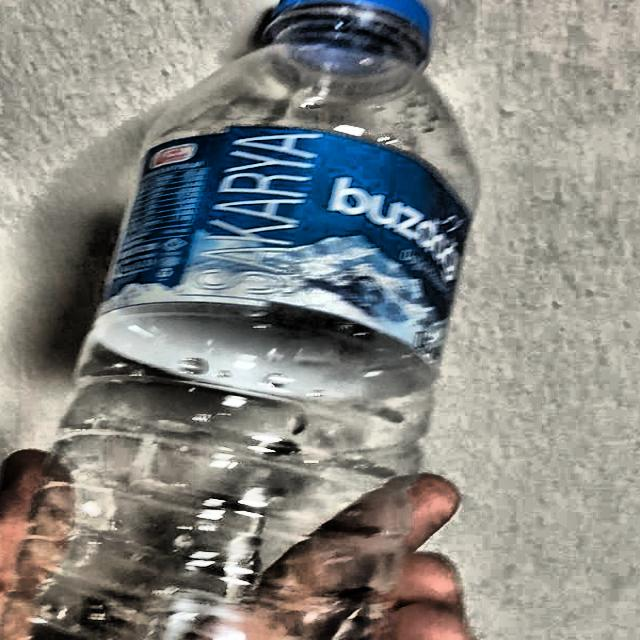plastic: (0, 0, 482, 640)
